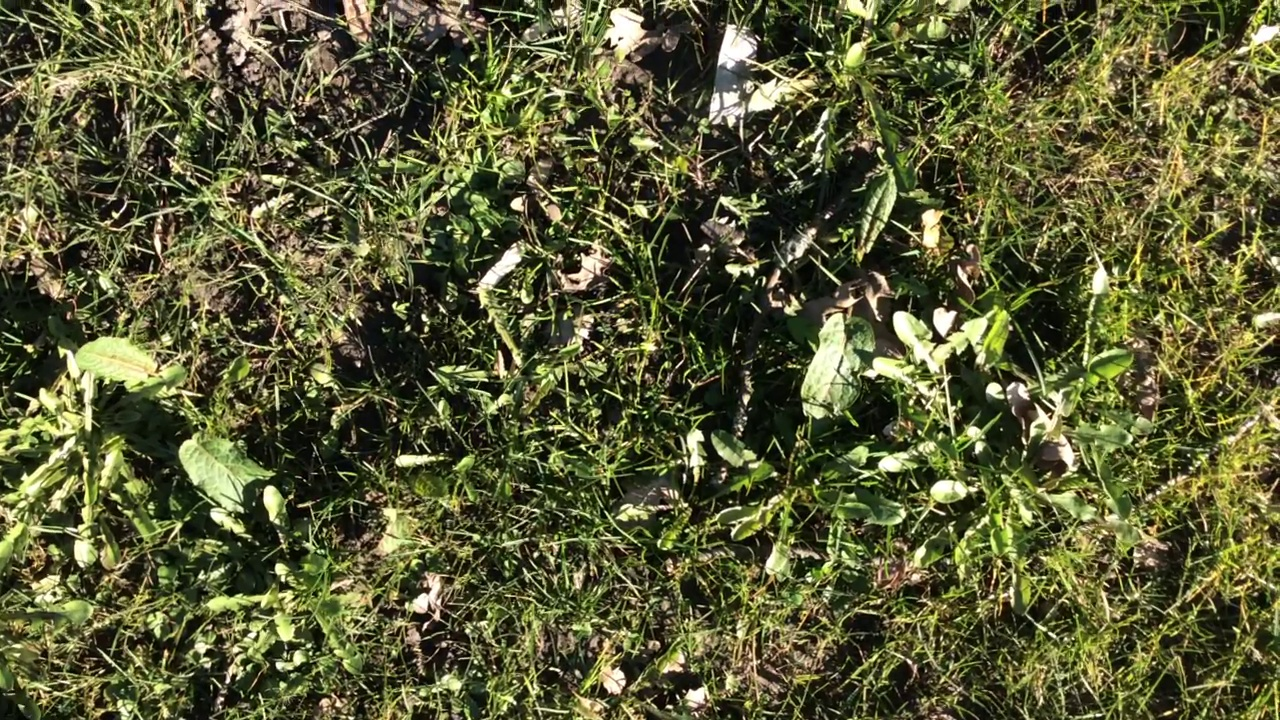rumex: (803, 317, 875, 419), (180, 436, 266, 514), (76, 341, 158, 386), (859, 172, 896, 257)
